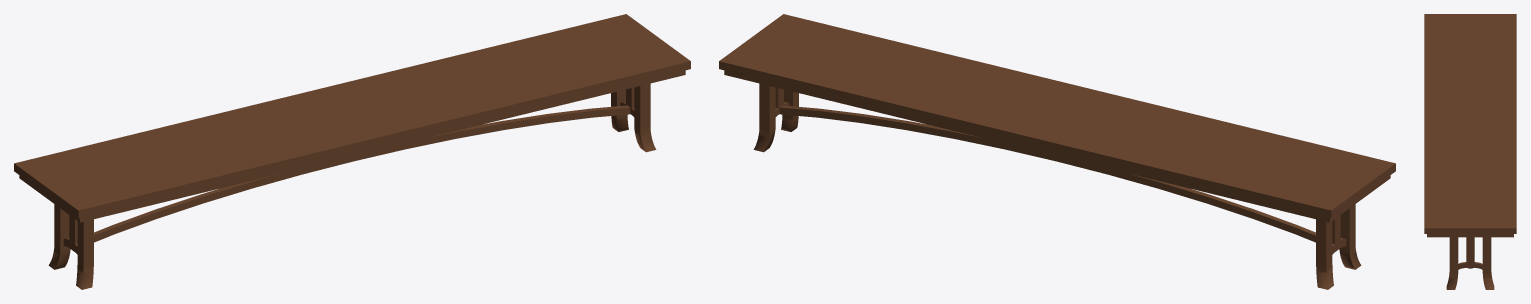
File: DiningTable3.fbx
3 views of the same model, side by side, from view 1: azimuth 30°, elevation 25°; view 2: azimuth 150°, elevation 25°; view 3: azimuth 270°, elevation 25° (orthographic). The views are drawn at different scales.
Visible parts, largest first — view 1: DiningTable3; view 2: DiningTable3; view 3: DiningTable3.
Part boxes in pixels (left/top/right/bottom): DiningTable3: left=14, top=14, right=690, bottom=289; DiningTable3: left=719, top=14, right=1395, bottom=289; DiningTable3: left=1424, top=14, right=1516, bottom=289.
Bounding box in the file's own units: 373 × 55.47 × 68.02.
